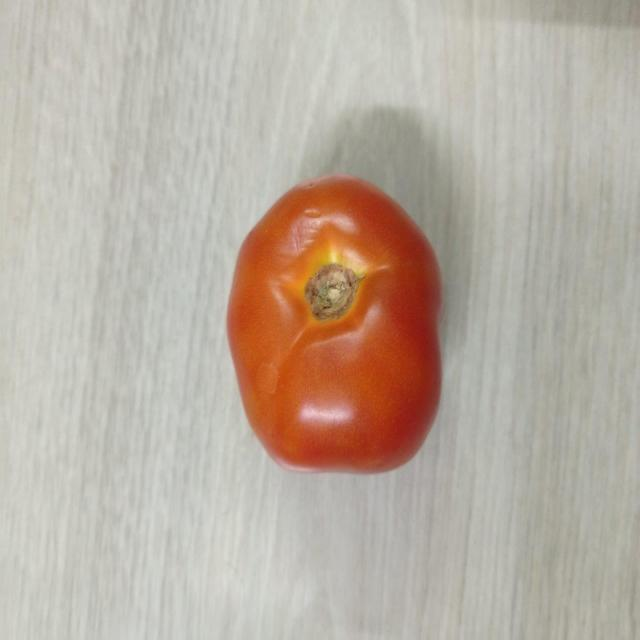Tomato: (224, 169, 448, 478)
